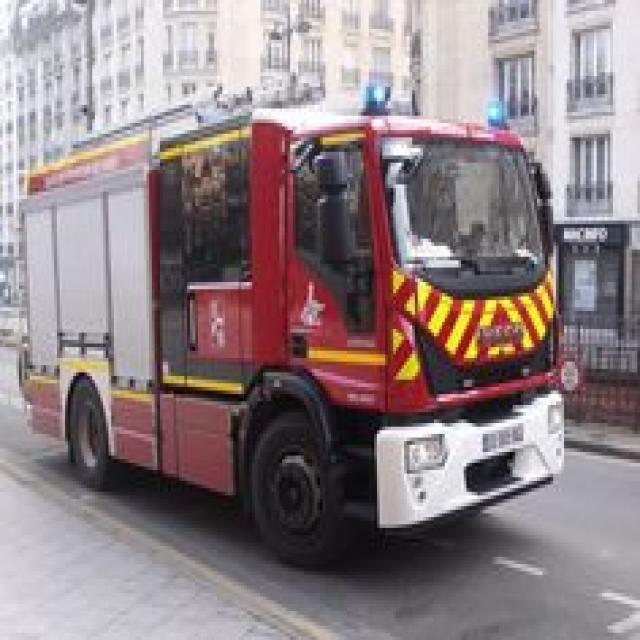pompier: (24, 120, 557, 558)
